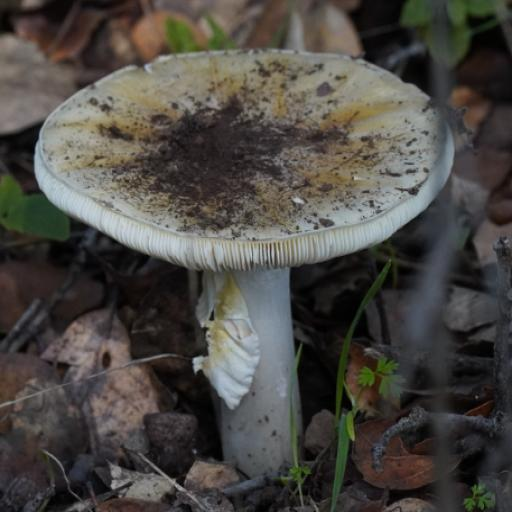Death Cap: (0, 0, 473, 493)
